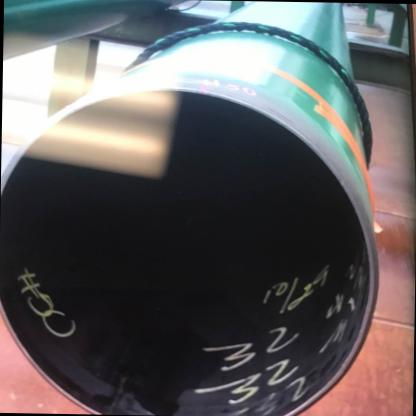Bevel: (334, 174, 348, 188)
